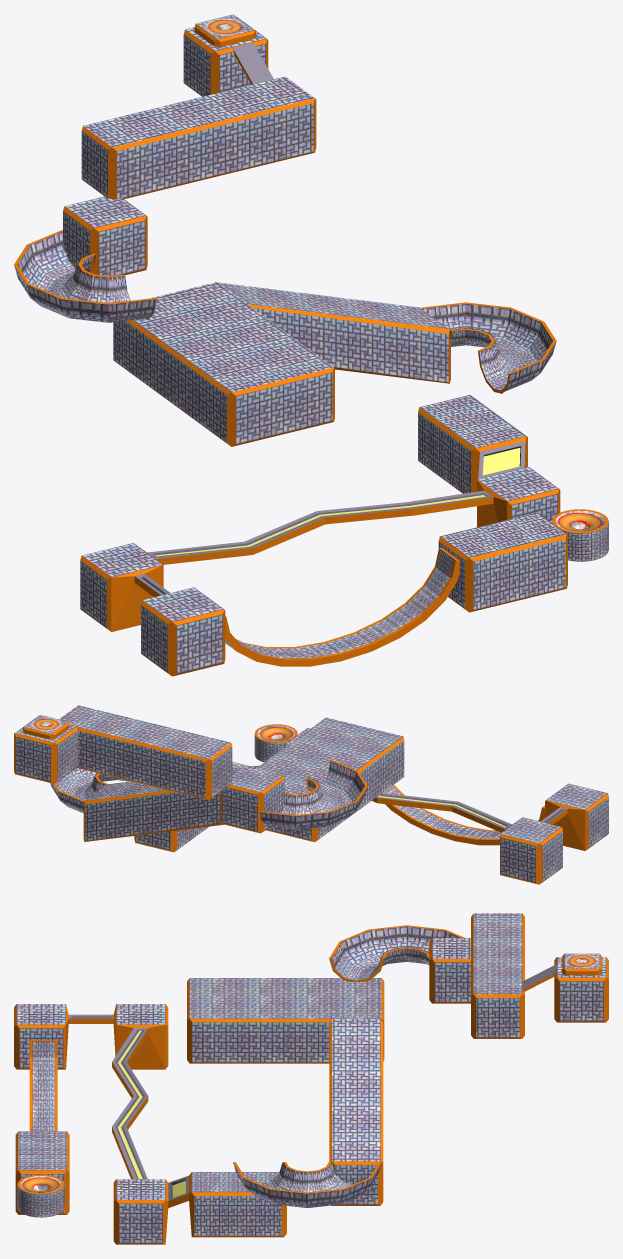
File: Level13.fbx
3 views of the same model, one above another, from view 1: azimuth 30°, elevation 25°; view 2: azimuth 150°, elevation 25°; view 3: azimuth 270°, elevation 25° (orthographic). The views are drawn at different scales.
Parts seen in each view (by area): view 1: Level13; view 2: Level13; view 3: Level13.
Part boxes in pixels (bbox=[...]): Level13: bbox=[14, 14, 608, 676]; Level13: bbox=[14, 705, 608, 884]; Level13: bbox=[14, 913, 608, 1244].
Bounding box in the file's own units: 3179 × 1840 × 3614.
Materials: 12 (7 with a texture image).
